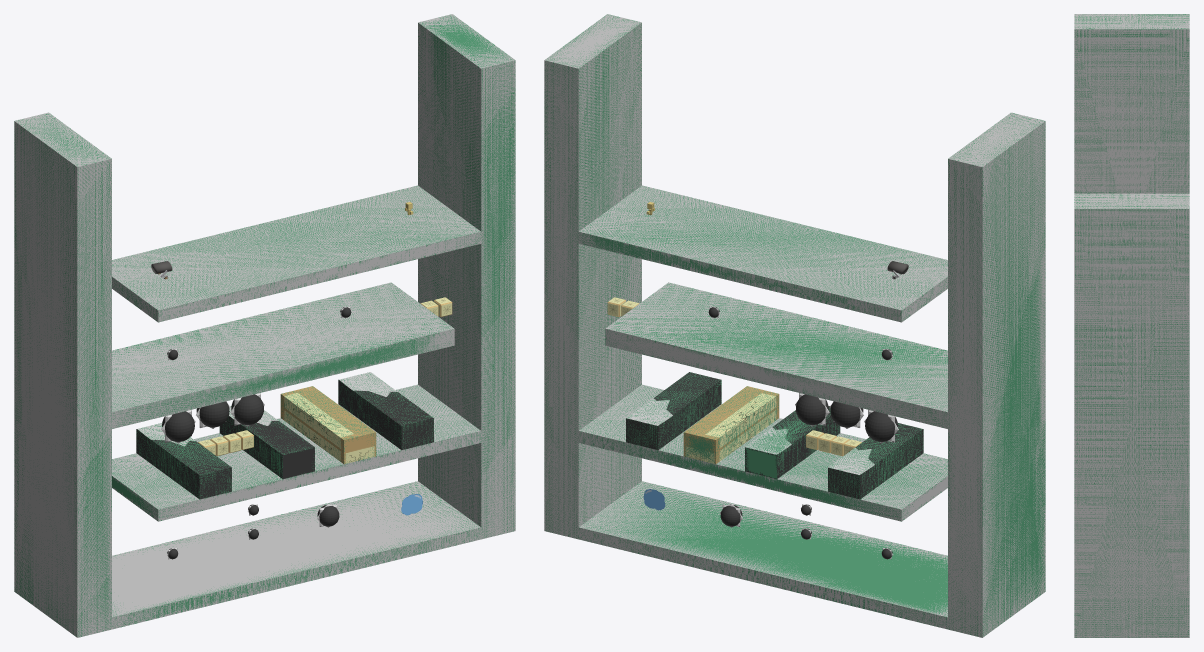
The model's file is stage_4.obj.
3 renders of one model, left to right at view 1: azimuth 30°, elevation 25°; view 2: azimuth 150°, elevation 25°; view 3: azimuth 270°, elevation 25°, orthographic. The views are drawn at different scales.
Parts seen in each view (by area): view 1: ground.019, ground.005, ground.004, ground, ground.002, ground.003, ground.001, ground.009, ground.006, ground.008, ground.007, StageObjectSpawn.014 (+2 smaller); view 2: ground.019, ground.005, ground.004, ground.003, ground.002, ground, ground.001, ground.006, ground.009, ground.008, ground.007, StageObjectSpawn.014 (+2 smaller); view 3: ground.004, ground.019, ground.005.
Part boxes in pixels (bbox=[...]): ground.019: bbox=[14, 14, 515, 636]; ground.005: bbox=[14, 112, 111, 637]; ground.004: bbox=[418, 14, 515, 539]; ground: bbox=[112, 481, 481, 629]; ground.002: bbox=[112, 185, 481, 322]; ground.003: bbox=[112, 282, 454, 428]; ground.001: bbox=[112, 385, 481, 521]; ground.009: bbox=[280, 386, 376, 464]; ground.006: bbox=[338, 372, 433, 450]; ground.008: bbox=[136, 423, 231, 499]; ground.007: bbox=[219, 406, 314, 478]; StageObjectSpawn.014: bbox=[161, 409, 195, 443]; ground.019: bbox=[544, 14, 1045, 637]; ground.005: bbox=[948, 112, 1045, 637]; ground.004: bbox=[544, 14, 641, 539]; ground.003: bbox=[605, 282, 947, 428]; ground.002: bbox=[578, 185, 947, 322]; ground: bbox=[578, 481, 947, 629]; ground.001: bbox=[578, 384, 947, 521]; ground.006: bbox=[626, 372, 721, 450]; ground.009: bbox=[683, 386, 779, 464]; ground.008: bbox=[828, 423, 923, 499]; ground.007: bbox=[745, 406, 840, 478]; StageObjectSpawn.014: bbox=[864, 409, 898, 443]; ground.004: bbox=[1074, 193, 1189, 637]; ground.019: bbox=[1074, 14, 1189, 637]; ground.005: bbox=[1074, 14, 1189, 193].
Bounding box in the file's own units: 76 × 78 × 19.
